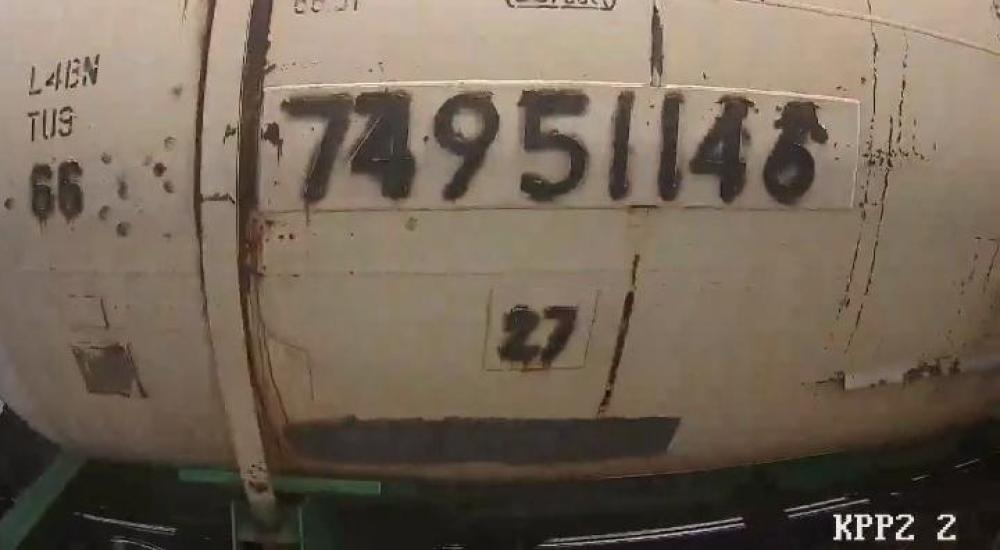Wagon-number: (274, 83, 826, 212)
